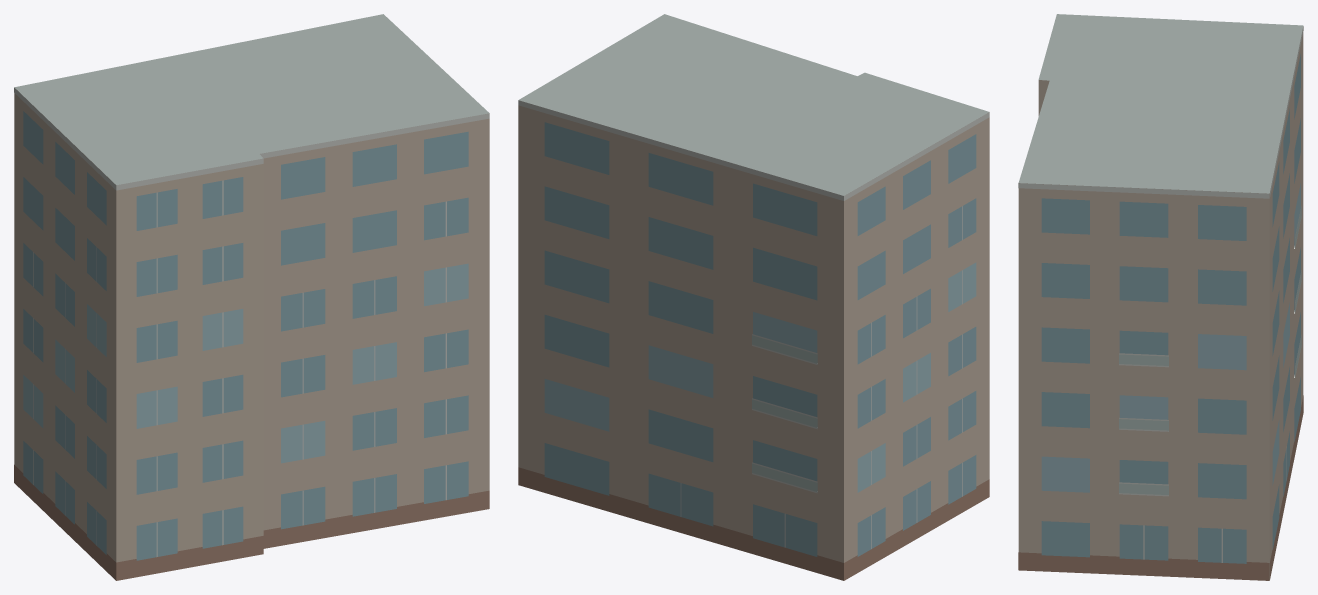
The model's file is survey-upis-32567046.glb.
3 renders of one model, left to right at view 1: azimuth 30°, elevation 25°; view 2: azimuth 150°, elevation 25°; view 3: azimuth 270°, elevation 25°, orthographic. The views are drawn at different scales.
Parts seen in each view (by area): view 1: survey-upis-32567046.tmp; view 2: survey-upis-32567046.tmp; view 3: survey-upis-32567046.tmp.
Boxes of the visible parts, x1,y1,x2,y2 form: survey-upis-32567046.tmp: [14, 14, 489, 580]; survey-upis-32567046.tmp: [518, 14, 989, 580]; survey-upis-32567046.tmp: [1018, 14, 1303, 580].
Bounding box in the file's own units: 18.21 × 18.3 × 12.22.
